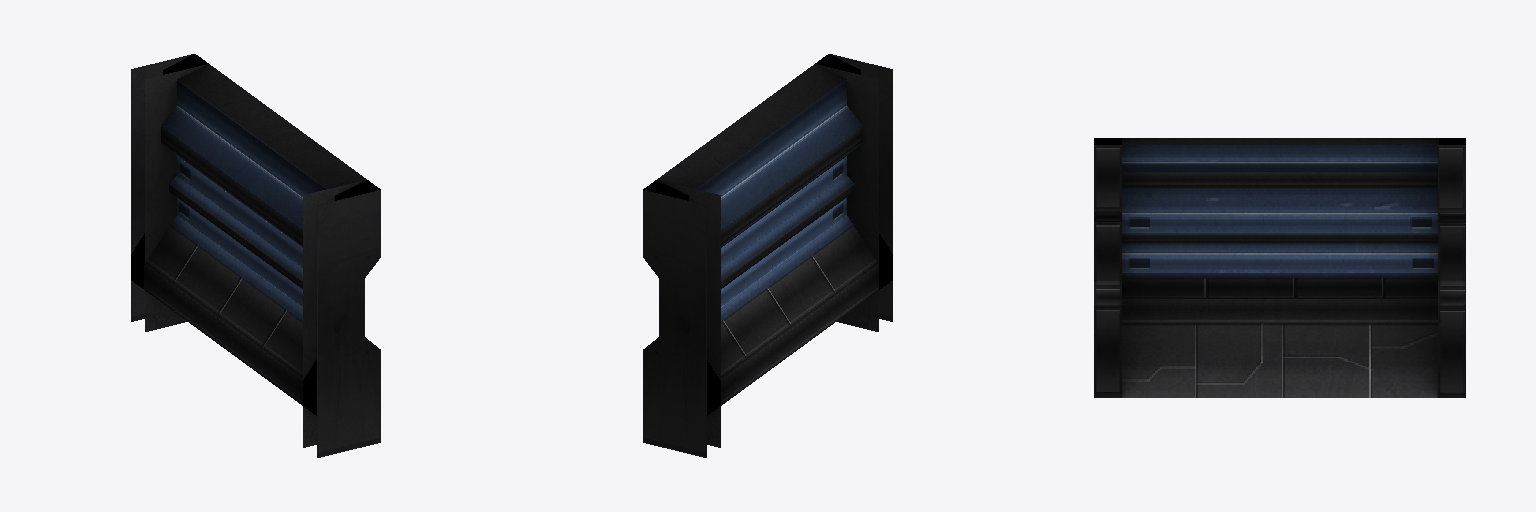
The picture shows the model from 3 angles: view 1: azimuth 30°, elevation 25°; view 2: azimuth 150°, elevation 25°; view 3: azimuth 270°, elevation 25°; orthographic projection.
Visible parts, largest first — view 1: Cube_Cube.002; view 2: Cube_Cube.002; view 3: Cube_Cube.002.
Boxes of the visible parts, box(x1,y1,x2,y2) form: Cube_Cube.002: box(131, 54, 380, 457); Cube_Cube.002: box(643, 54, 892, 457); Cube_Cube.002: box(1094, 138, 1465, 397).
Bounding box in the file's own units: 0.8 × 3 × 4.
Materials: 1 (1 with a texture image).